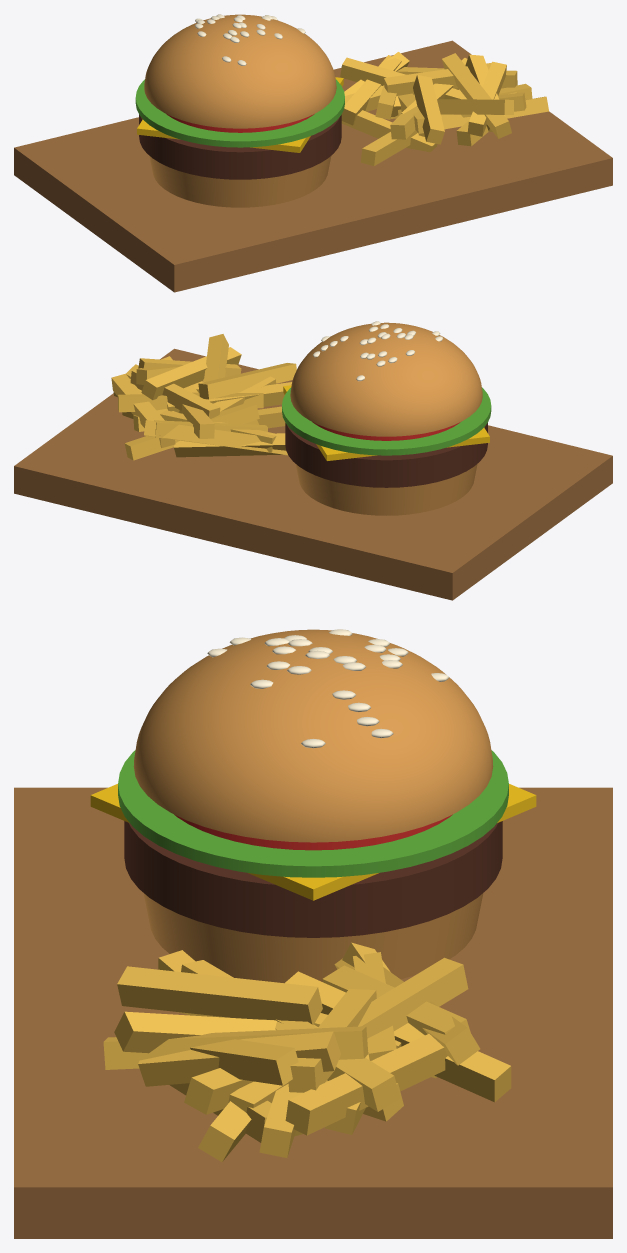
The model's file is hamburguesa.glb.
The picture shows the model from 3 angles, top to bottom: view 1: azimuth 30°, elevation 25°; view 2: azimuth 150°, elevation 25°; view 3: azimuth 270°, elevation 25°; orthographic projection. The views are drawn at different scales.
Bounding box in the file's own units: 0.3 × 0.1131 × 0.19.
